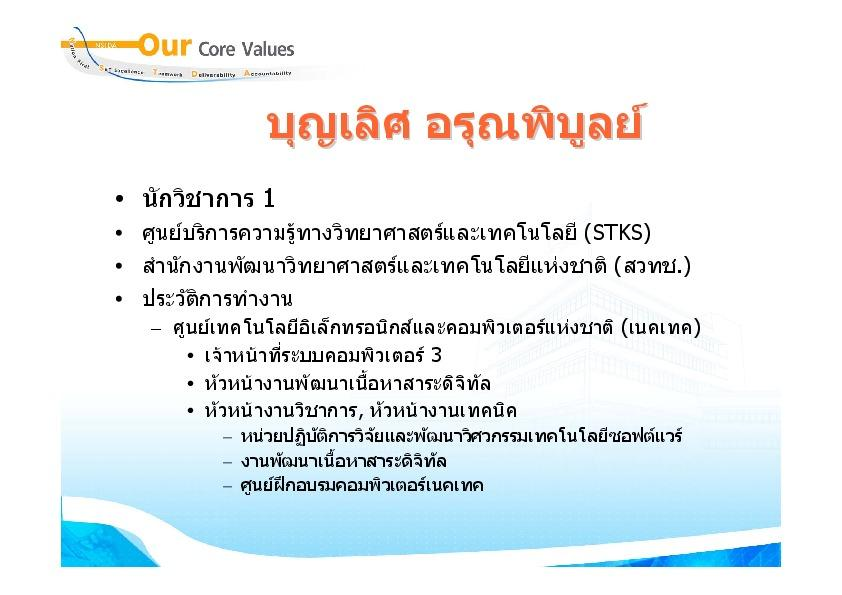paragraph: (75, 177, 788, 512)
title: (260, 91, 667, 160)
